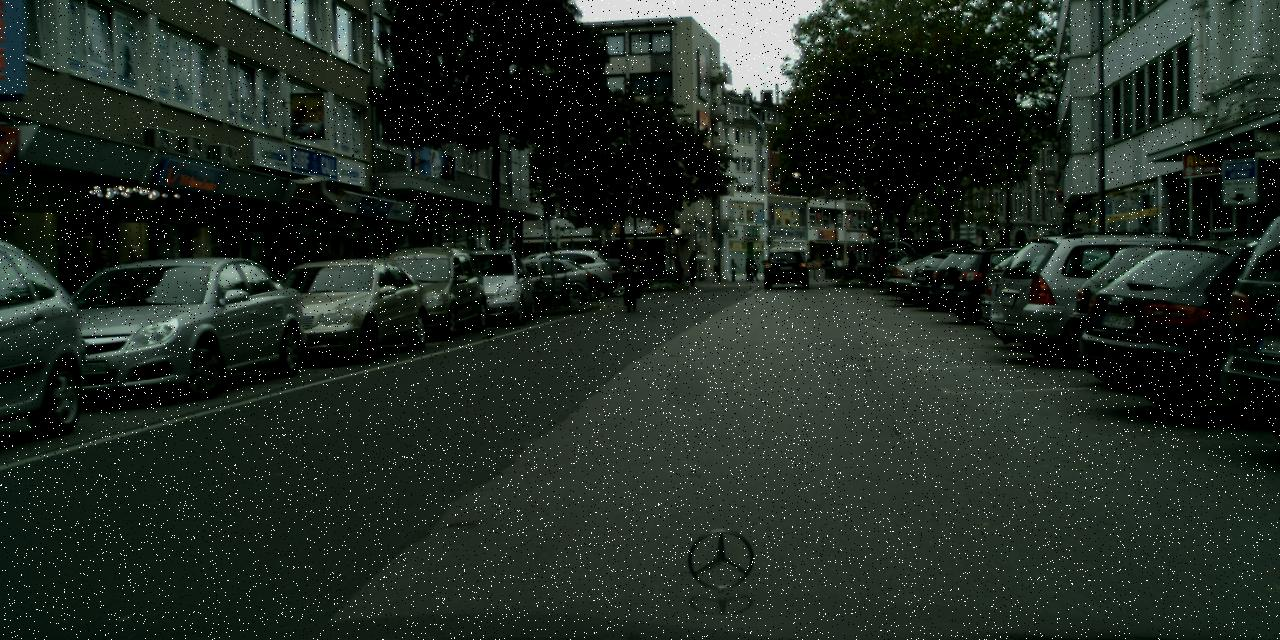ped: (116, 243, 154, 335), (84, 248, 119, 336), (618, 241, 642, 300), (686, 251, 700, 285), (844, 248, 858, 280), (671, 254, 683, 284), (638, 252, 650, 281), (748, 258, 758, 281), (744, 258, 754, 280), (728, 258, 738, 280)
